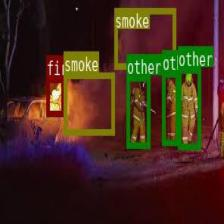fire: (46, 76, 64, 116)
smoke: (114, 7, 175, 68), (63, 71, 114, 134)
